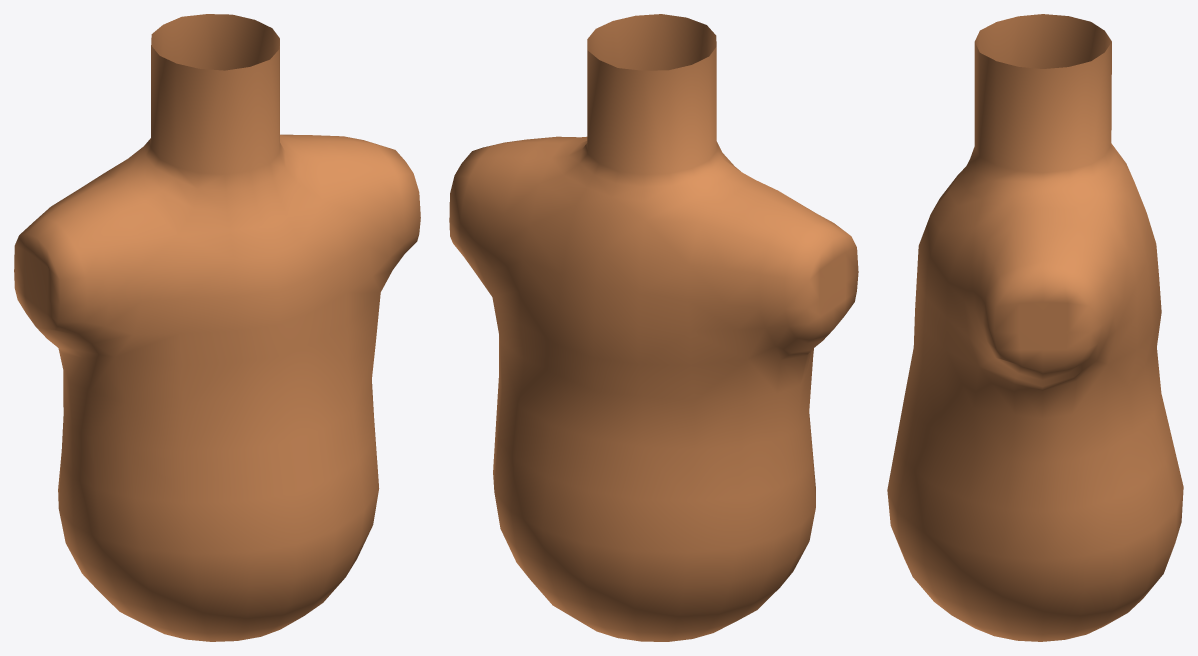
The model's file is torsos_basic_male.glb.
3 views of the same model, side by side, from view 1: azimuth 30°, elevation 25°; view 2: azimuth 150°, elevation 25°; view 3: azimuth 270°, elevation 25° (orthographic).
Parts seen in each view (by area): view 1: torsos_basic_male; view 2: torsos_basic_male; view 3: torsos_basic_male.
Boxes of the visible parts, x1,y1,x2,y2 form: torsos_basic_male: (14, 14, 420, 641); torsos_basic_male: (449, 14, 858, 641); torsos_basic_male: (887, 14, 1183, 641).
Size of the model in its own units: 0.3969 by 0.6111 by 0.2811.
